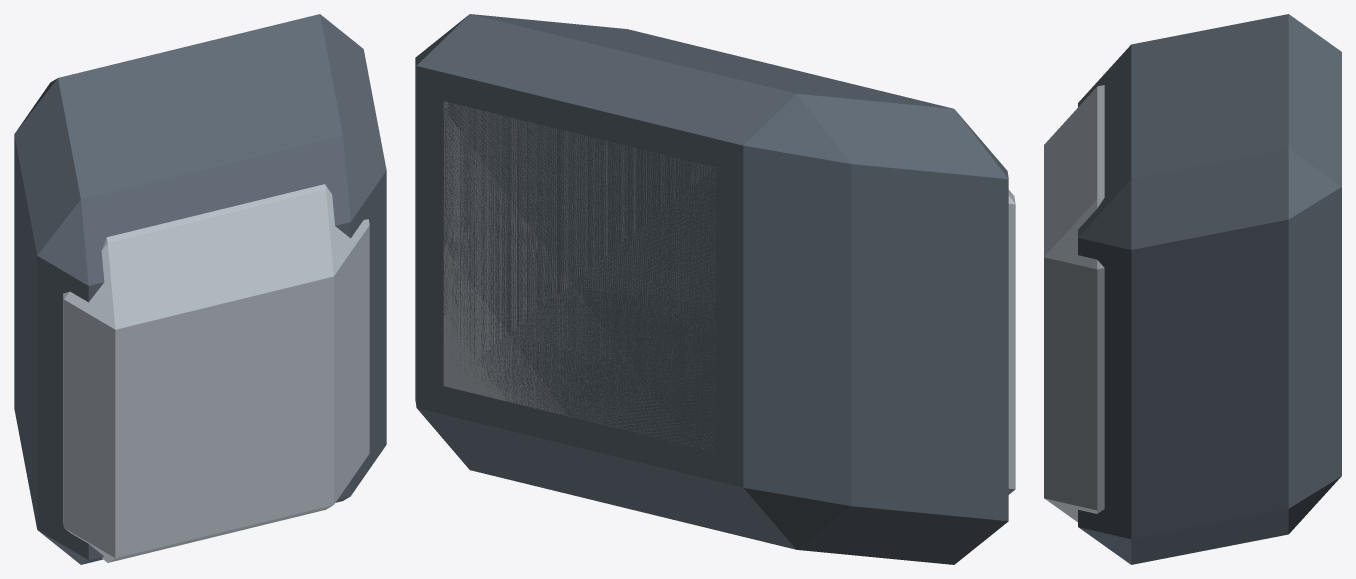
Rendered from Terrain_Block1x1.gltf.
The picture shows the model from 3 angles, left to right: view 1: azimuth 30°, elevation 25°; view 2: azimuth 150°, elevation 25°; view 3: azimuth 270°, elevation 25°; orthographic projection. The views are drawn at different scales.
Parts seen in each view (by area): view 1: Terrain_Block1x1_baked; view 2: Terrain_Block1x1_baked; view 3: Terrain_Block1x1_baked.
Part boxes in pixels (x1=…): Terrain_Block1x1_baked: x1=14, y1=14, x2=386, y2=564; Terrain_Block1x1_baked: x1=415, y1=14, x2=1015, y2=564; Terrain_Block1x1_baked: x1=1044, y1=14, x2=1341, y2=564.
Bounding box in the file's own units: 1.15 × 1.15 × 0.7.
